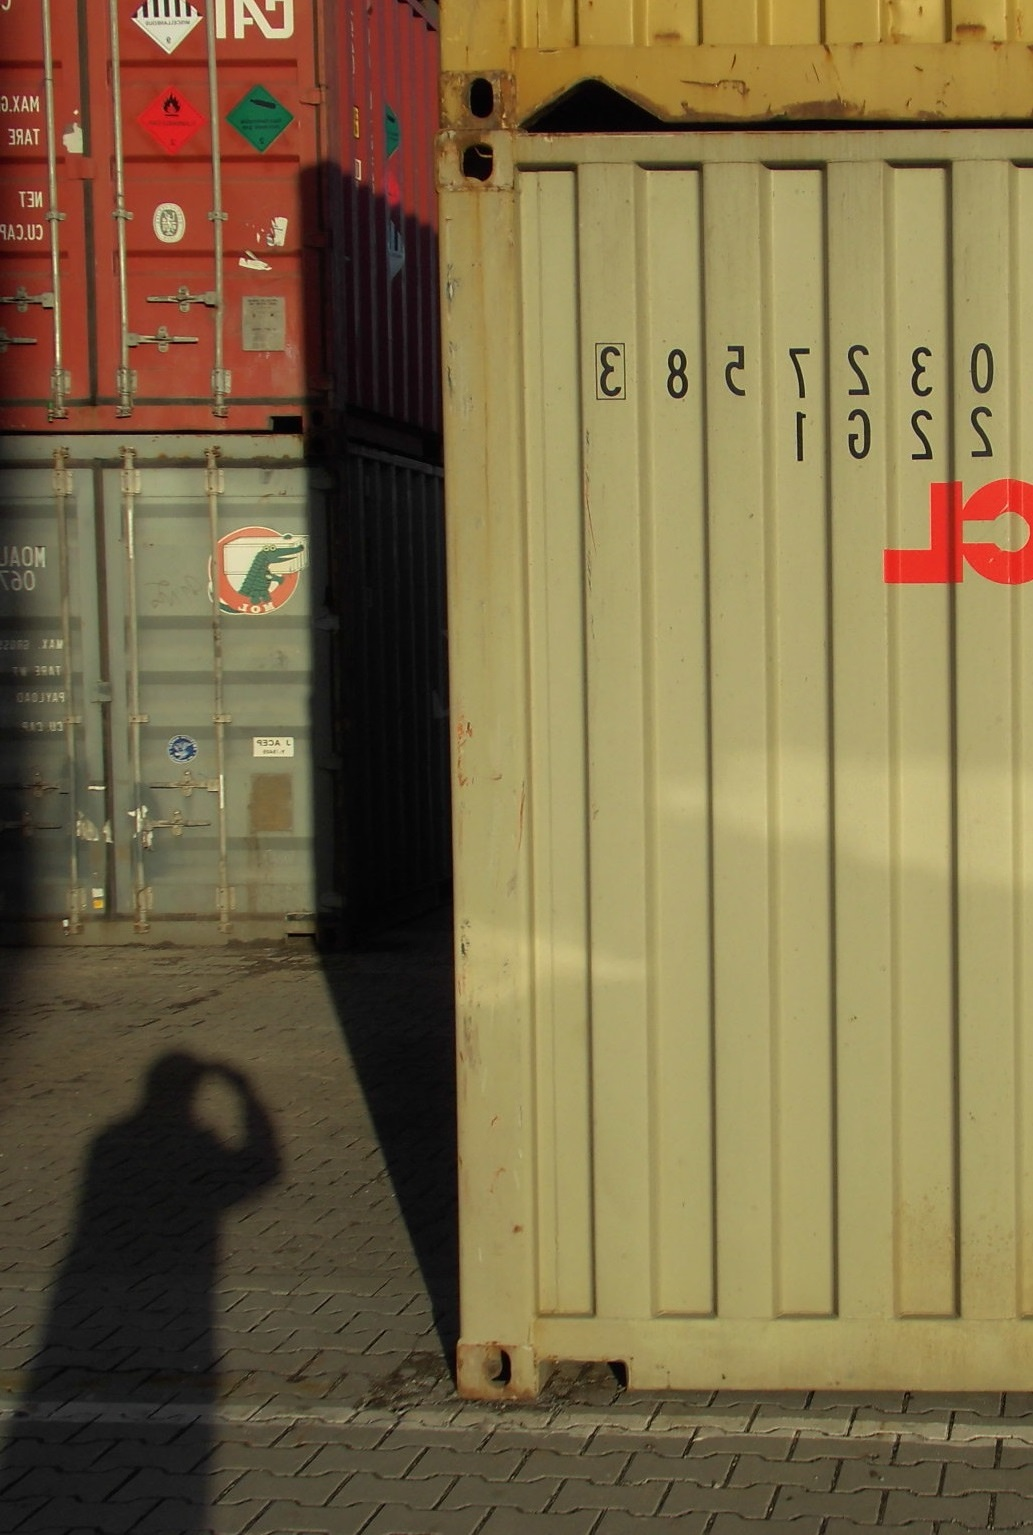container_door: (1, 434, 335, 950), (3, 3, 324, 434)
container_no_door: (451, 127, 1033, 1405)
